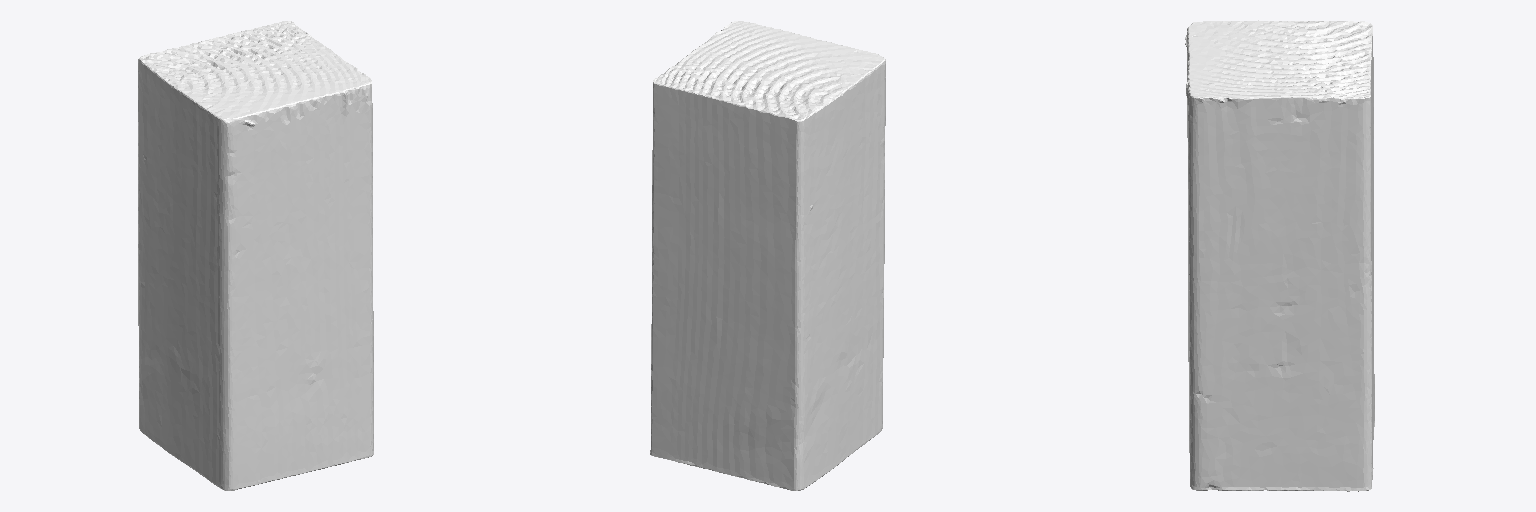
The robot description file, URDF, robot "adjustable_wrench":
<robot name="adjustable_wrench">
	<link name="base_link">
		<visual>
			<origin xyz="-0.01450146241685899 0.049664842094331994 -0.004250780997626007" rpy="0.0 0.0 0.0" />
			<geometry>
				<mesh filename="042_adjustable_wrench/google_16k/textured.obj" scale="1 1 1" />
			</geometry>
			<material name="texture">
				<color rgba="1.0 1.0 1.0 1.0" />
			</material>
		</visual>
		<collision>
			<origin xyz="-0.01450146241685899 0.049664842094331994 -0.004250780997626007" rpy="0.0 0.0 0.0" />
			<geometry>
				<mesh filename="042_adjustable_wrench/google_16k/textured_vhacd.obj" scale="1 1 1" />
			</geometry>
		</collision>
		<inertial>
			<mass value="0.252" />
			<inertia ixx="1e-3" ixy="0.0" ixz="0.0" iyy="1e-3" iyz="0.0" izz="1e-3" />
		</inertial>
	</link>
</robot>

--- Render facts (derived) ---
3 views of the same robot in one strip: view 1: azimuth 30°, elevation 25°; view 2: azimuth 150°, elevation 25°; view 3: azimuth 270°, elevation 25° (orthographic).
Model adjustable_wrench with 1 links and 0 joints (none), rooted at base_link, posed every joint at zero.
Links seen in each view (by area): view 1: base_link; view 2: base_link; view 3: base_link.
Boxes of the visible links, x1,y1,x2,y2 form: base_link: (138, 21, 373, 490); base_link: (650, 21, 885, 490); base_link: (1185, 20, 1374, 491).
Size in the robot's own frame: 0.0906 by 0.0899 by 0.206 metres.
1 mesh visuals loaded from 1 distinct referenced files (1 OBJ).